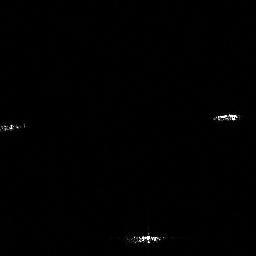ship: (127, 232, 169, 245), (210, 111, 244, 123), (1, 120, 28, 133)
